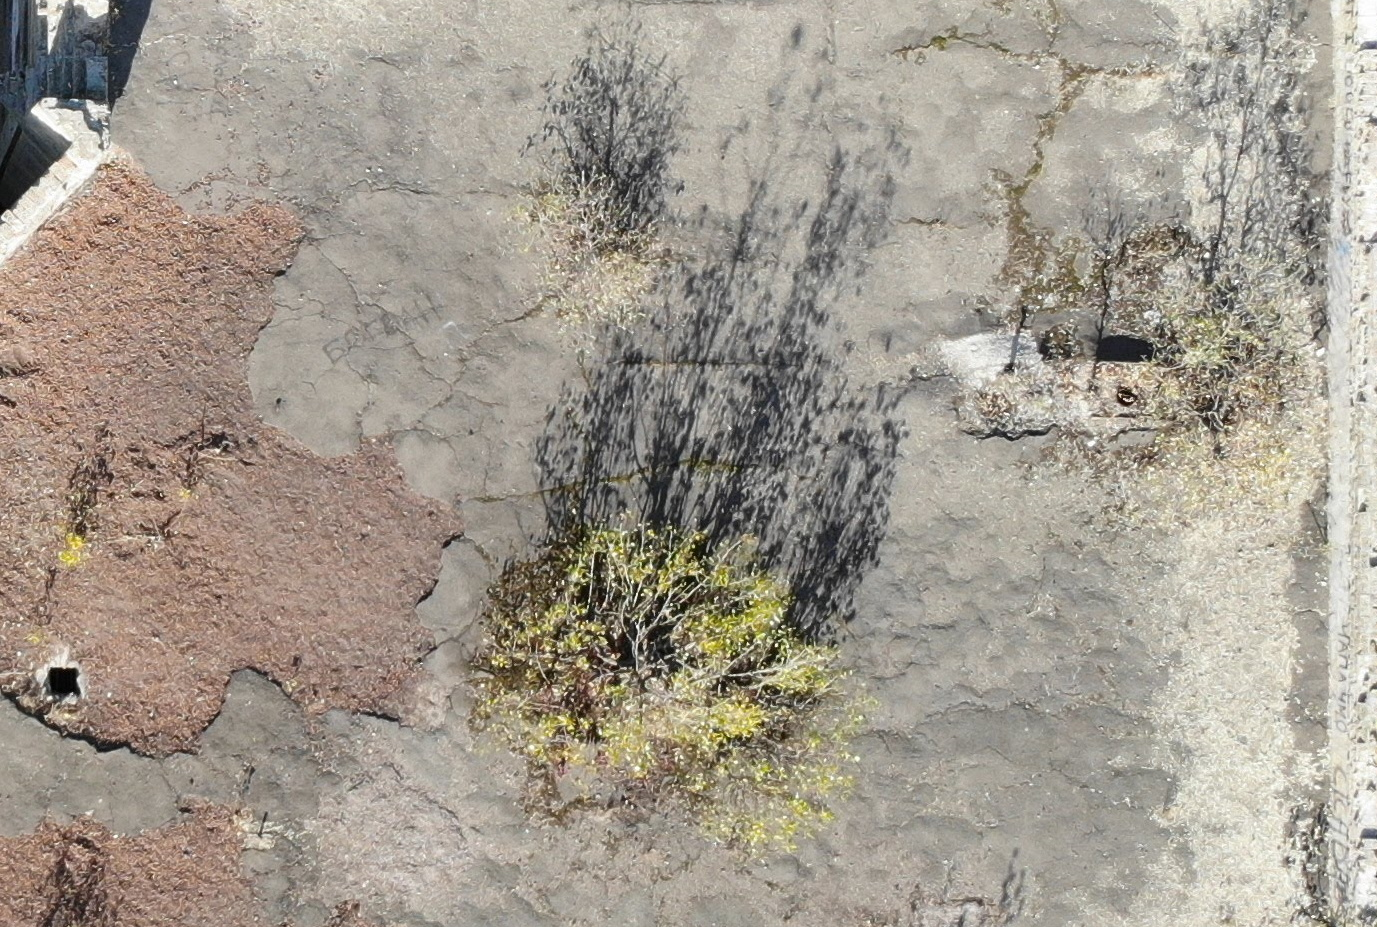tree: (454, 490, 885, 869), (1084, 218, 1355, 521), (473, 133, 698, 336), (57, 455, 199, 607)
